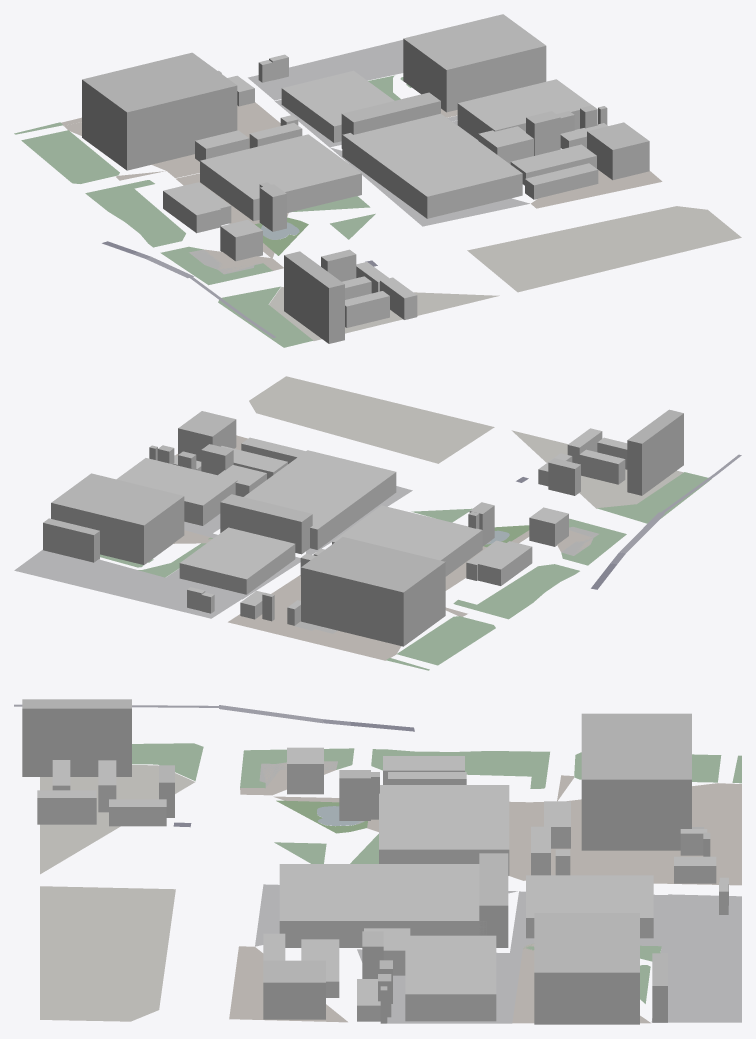
The model's file is 138_108_mid.glb.
3 views of the same model, one above another, from view 1: azimuth 30°, elevation 25°; view 2: azimuth 150°, elevation 25°; view 3: azimuth 270°, elevation 25° (orthographic). The views are drawn at different scales.
Bounding box in the file's own units: 497 × 57.24 × 519.
